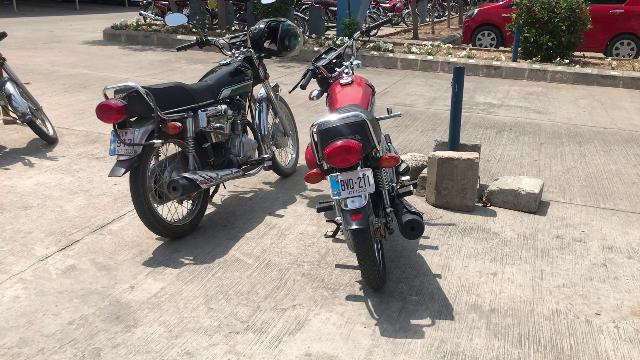plate: (326, 166, 376, 199)
